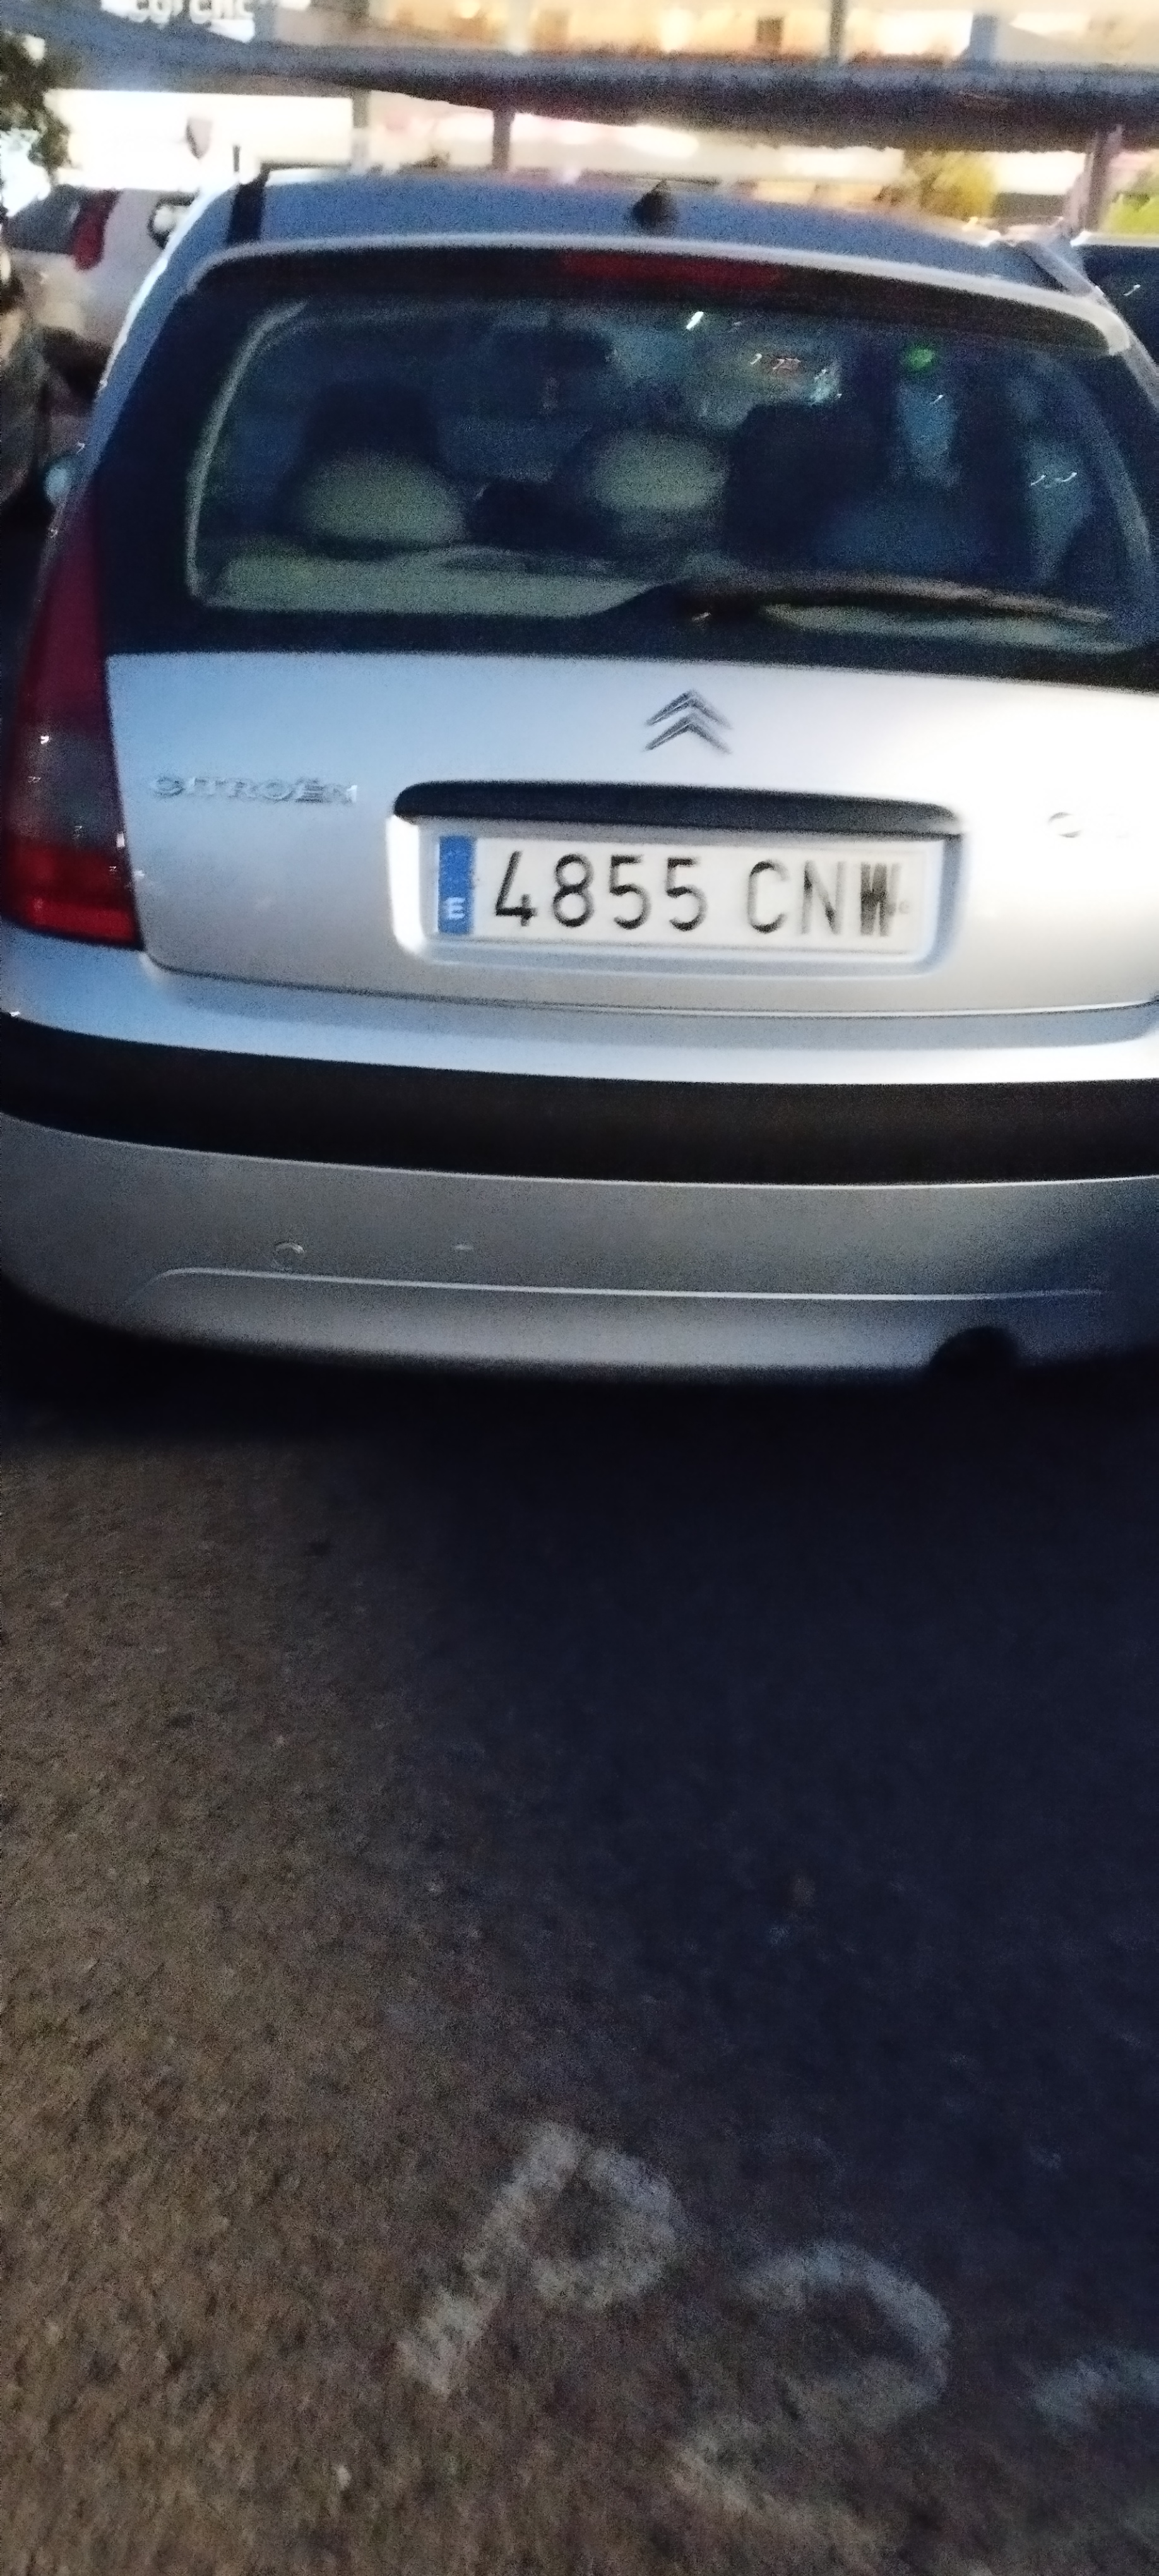Car: (0, 172, 1158, 1391)
Plate: (426, 829, 924, 961)
